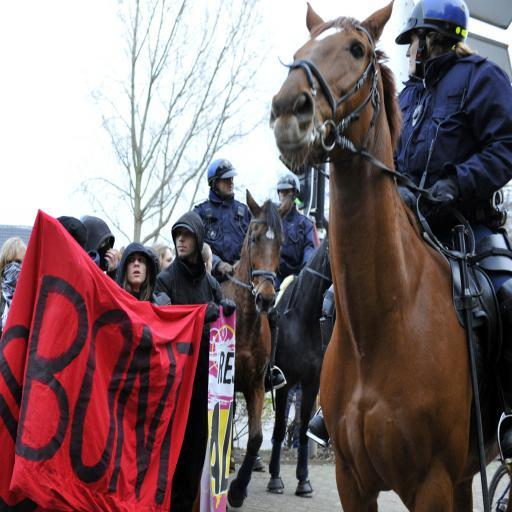Horse: (262, 0, 512, 512), (228, 230, 334, 496), (218, 186, 296, 512)
